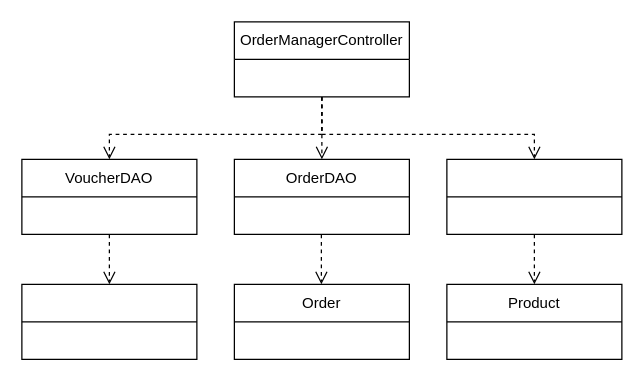
This 644x381 diagram has some shape labels left out. The centre of each missing label's shape, as x and y in pixels:
"ProductDAO" goes at pixel 534 196.
"Voucher" goes at pixel 109 321.
